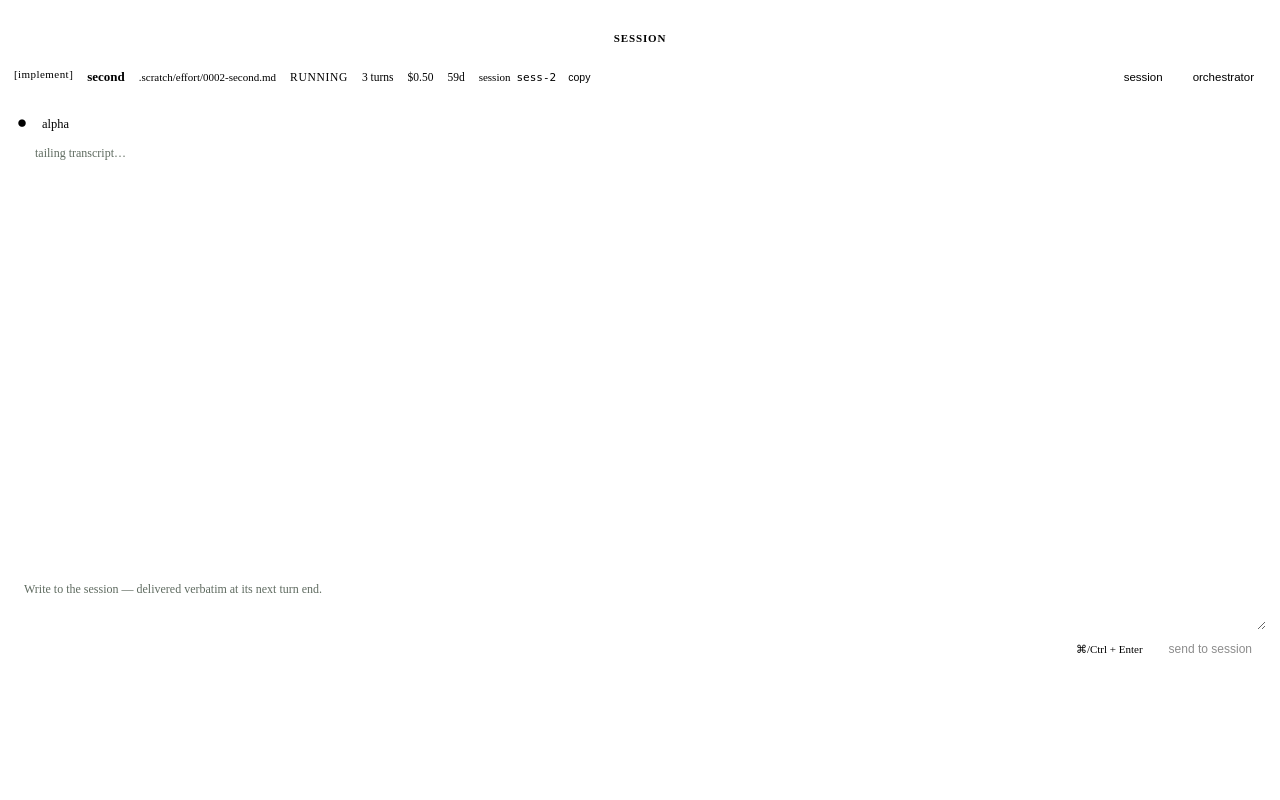
Test: SessionPanel chats take messages › shows the server's refusal and keeps the words
Click the button "orchestrator" at (1223, 77), box [1181,68,1266,86]
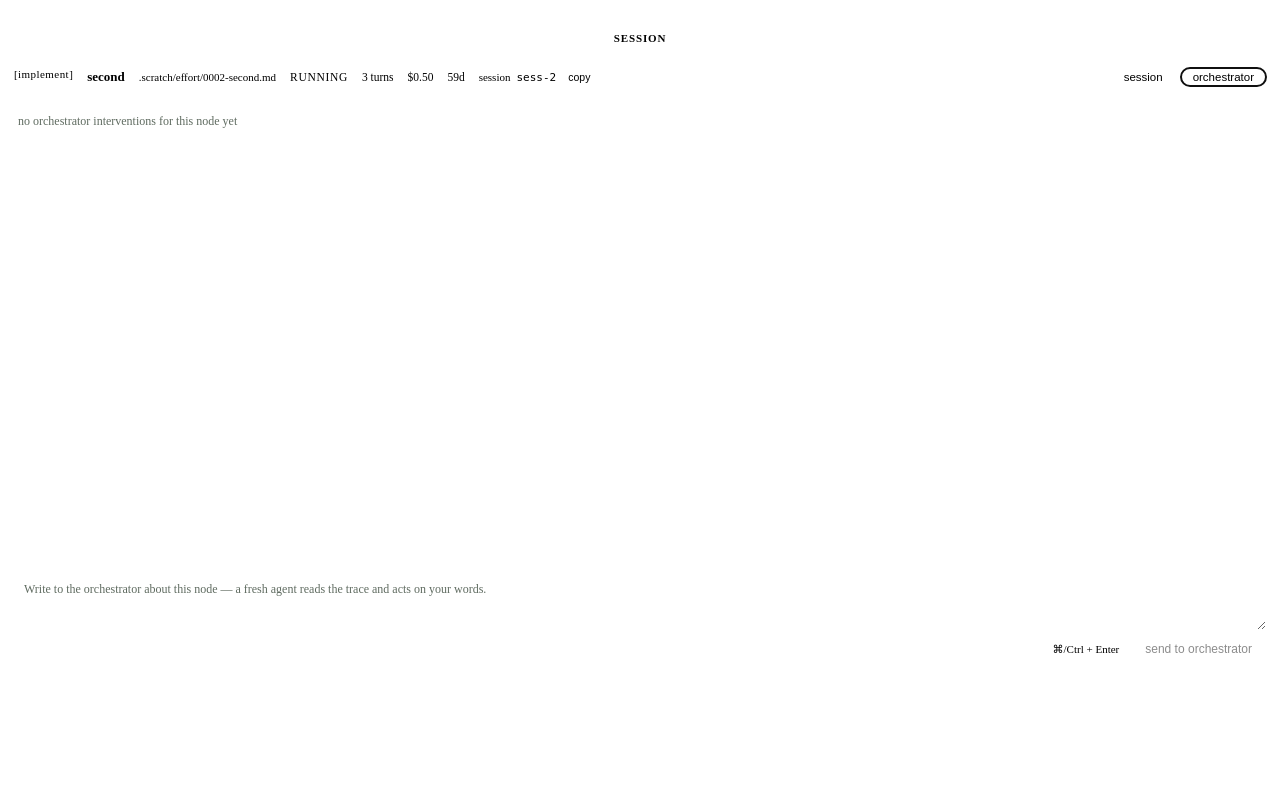
Type "hello" into the text box named "message the orchestrator" at (640, 601), box [14,572,1266,630]
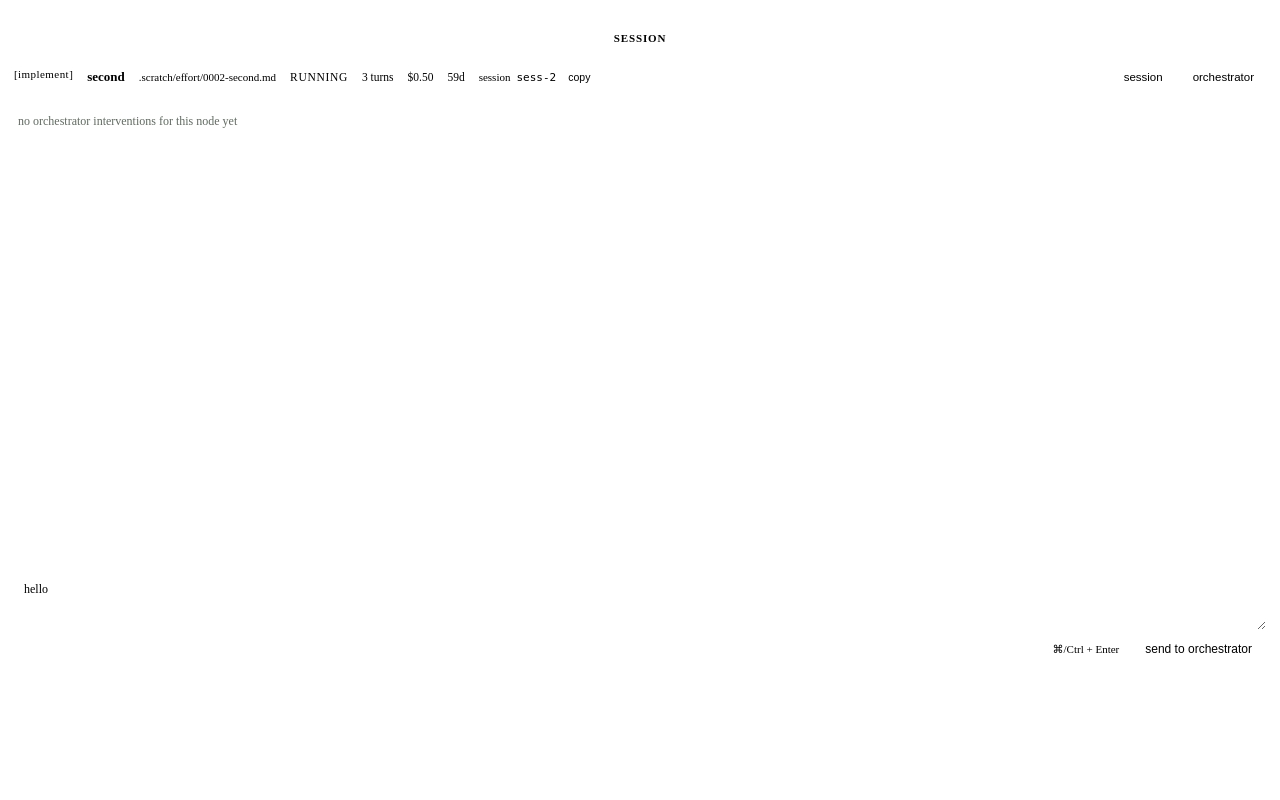
Click the button "send to orchestrator" at (1199, 649), box [1131,638,1266,660]
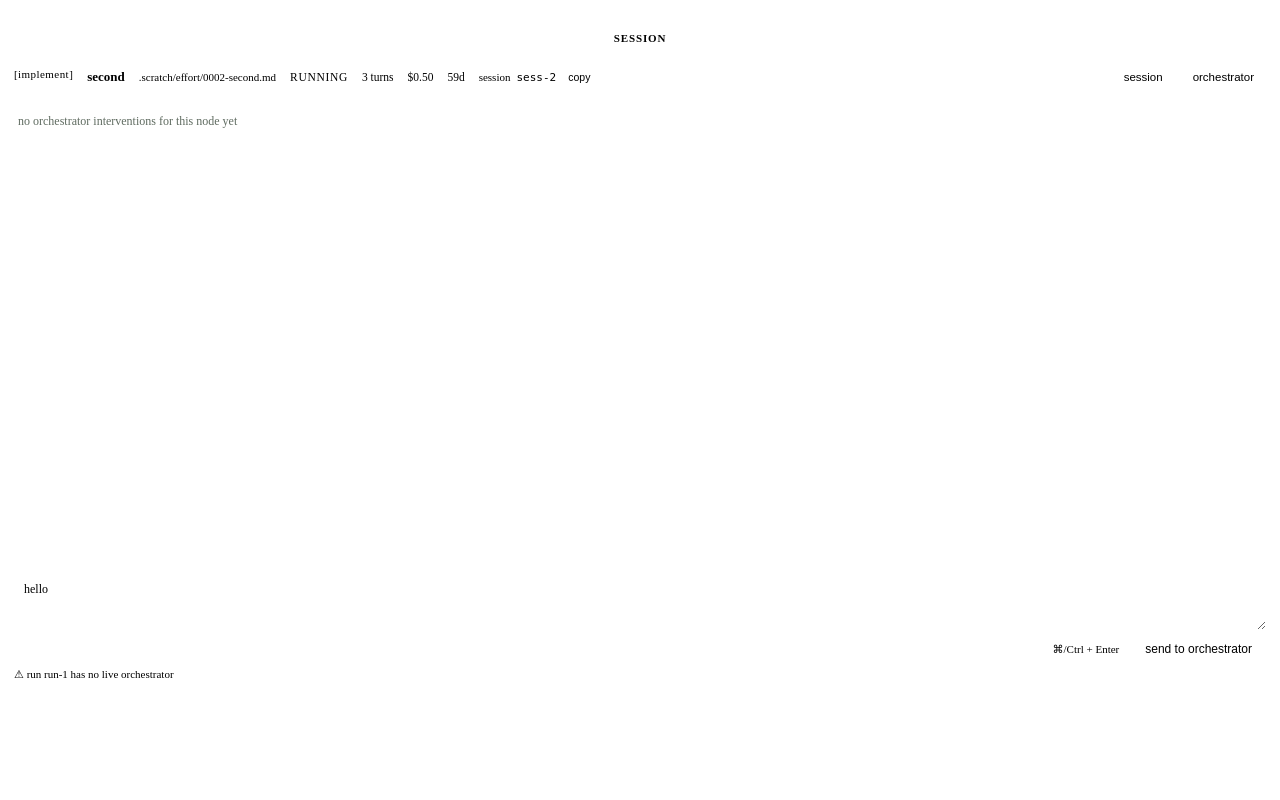
Result: the text "⚠ run run-1 has no live orchestrator" is shown at [14,668,174,680]
